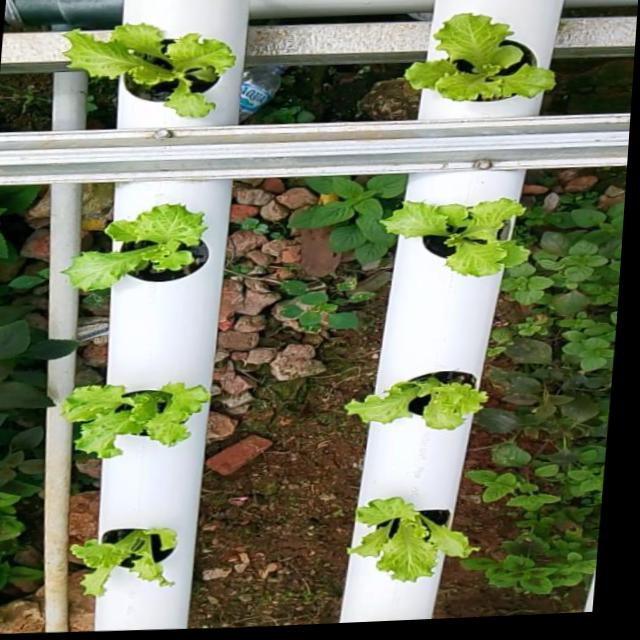Baby: (52, 31, 225, 125), (395, 18, 545, 123), (58, 204, 206, 292), (369, 202, 519, 281), (57, 383, 206, 458), (342, 496, 472, 580), (339, 371, 481, 430), (66, 527, 172, 594)
